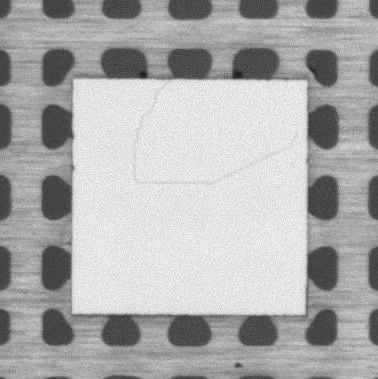DIE_CRACK: (132, 80, 298, 186)
